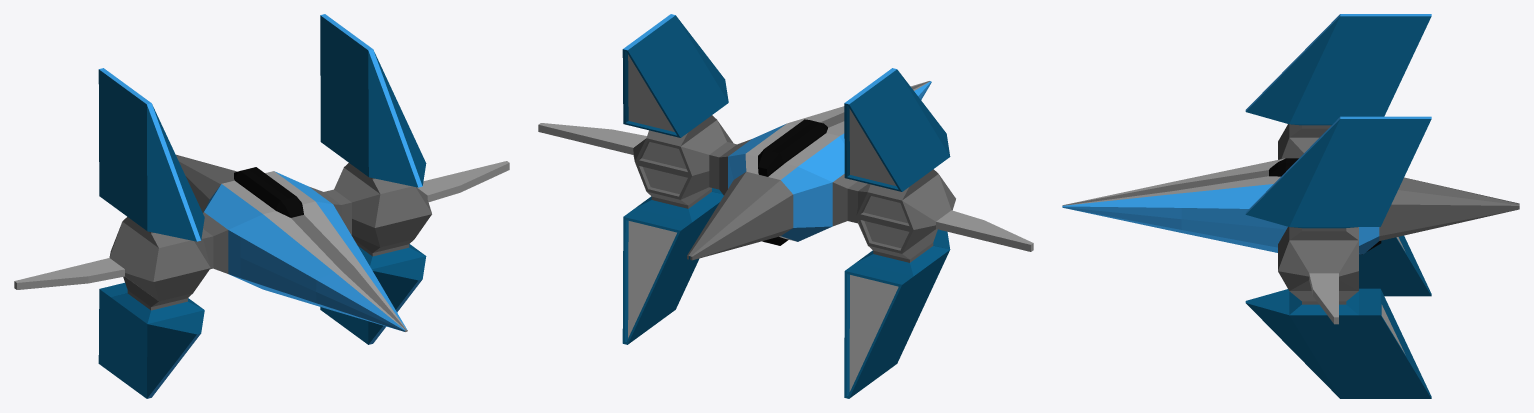
Rendered from SpaceshipMastermindOfElysium.fbx.
3 renders of one model, left to right at view 1: azimuth 30°, elevation 25°; view 2: azimuth 150°, elevation 25°; view 3: azimuth 270°, elevation 25°, orthographic. The views are drawn at different scales.
Parts seen in each view (by area): view 1: Cube; view 2: Cube; view 3: Cube.
Boxes of the visible parts, x1,y1,x2,y2 form: Cube: (14, 14, 509, 398); Cube: (538, 14, 1033, 398); Cube: (1062, 14, 1519, 398).
Size of the model in its own units: 1368 by 782 by 1157.
Materials: 1 (1 with a texture image).
